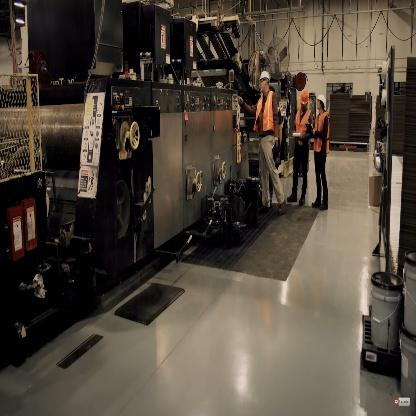helmet: (253, 69, 275, 93), (311, 92, 331, 113), (299, 84, 309, 103)
